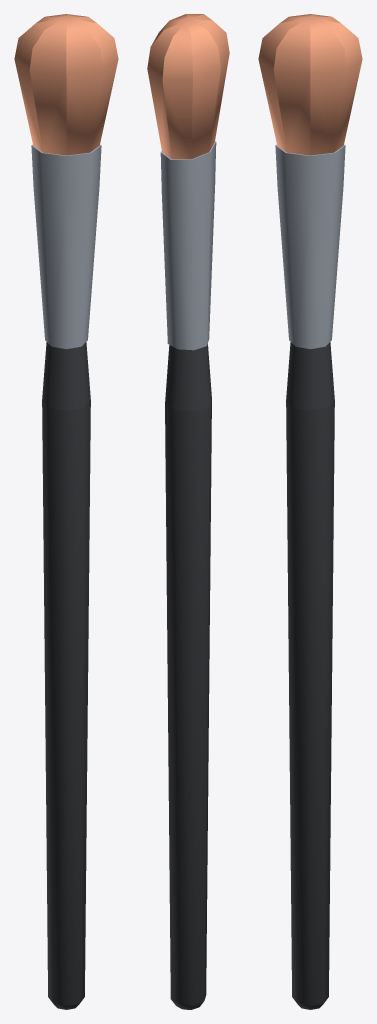
The model's file is Brush Large Blender.glb.
The picture shows the model from 3 angles, left to right: view 1: azimuth 90°, elevation 25°; view 2: azimuth 150°, elevation 25°; view 3: azimuth 270°, elevation 25°; orthographic projection.
Parts seen in each view (by area): view 1: brush_large_blender.001; view 2: brush_large_blender.001; view 3: brush_large_blender.001.
Part boxes in pixels (box(x1,y1,x2,y2)): brush_large_blender.001: box(14, 14, 118, 1009); brush_large_blender.001: box(147, 14, 229, 1009); brush_large_blender.001: box(258, 14, 362, 1009).
Size of the model in its own units: 1.73 by 25.25 by 2.41.
1 material, 1 textured.
